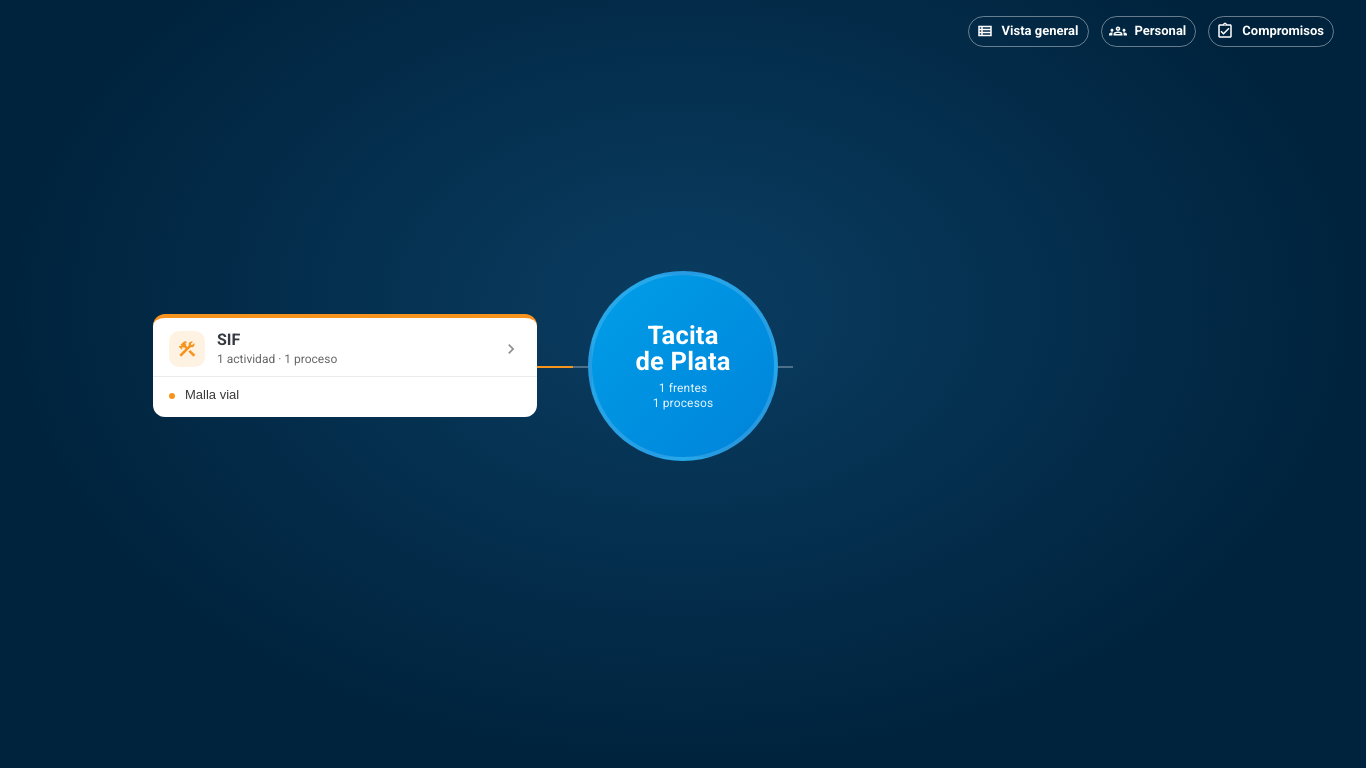
Scenario: MapaFrentesPage › muestra las actividades de entrada y al tocar una abre sus contratos
Check: the text "Constructora Uno" is not shown
Click the button "Malla vial" at (212, 395), box [161, 381, 529, 409]
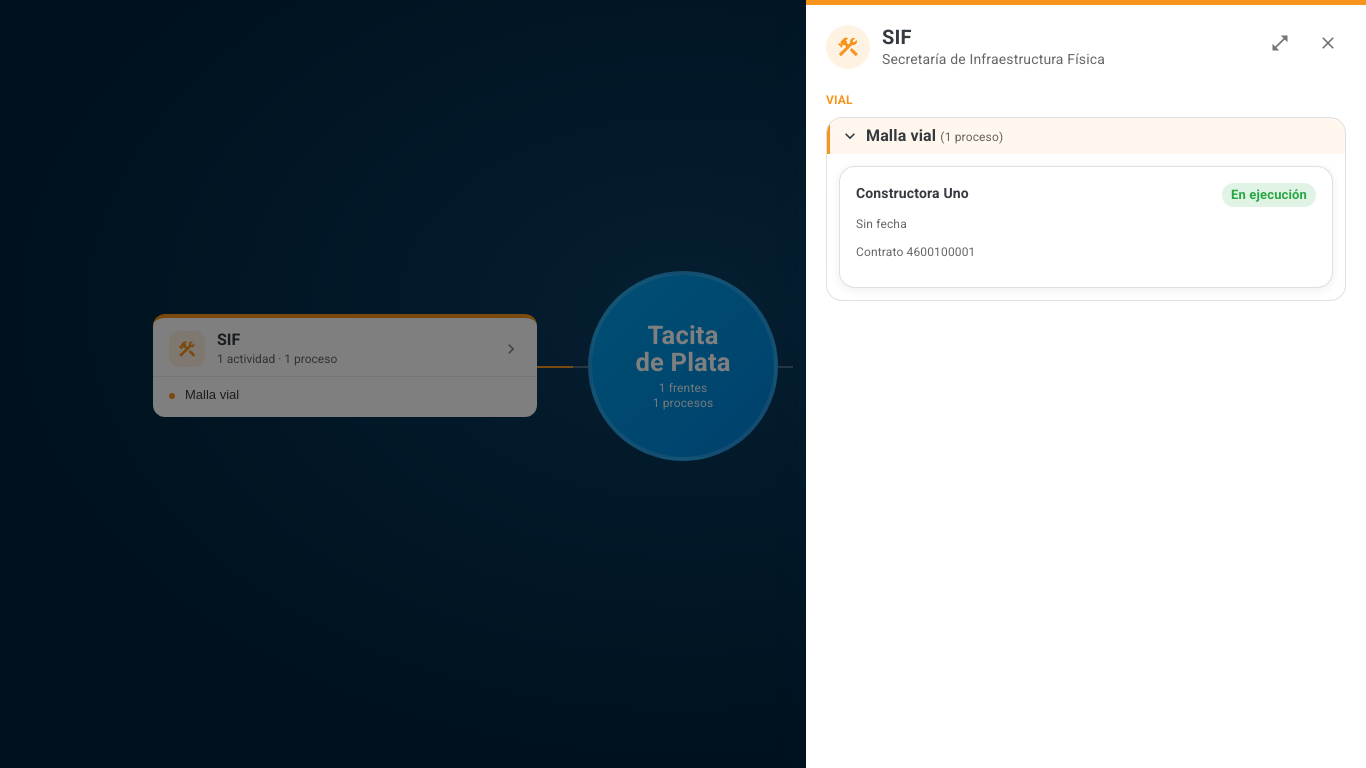
Check: the text "Constructora Uno" is shown, box [856, 183, 969, 203]
